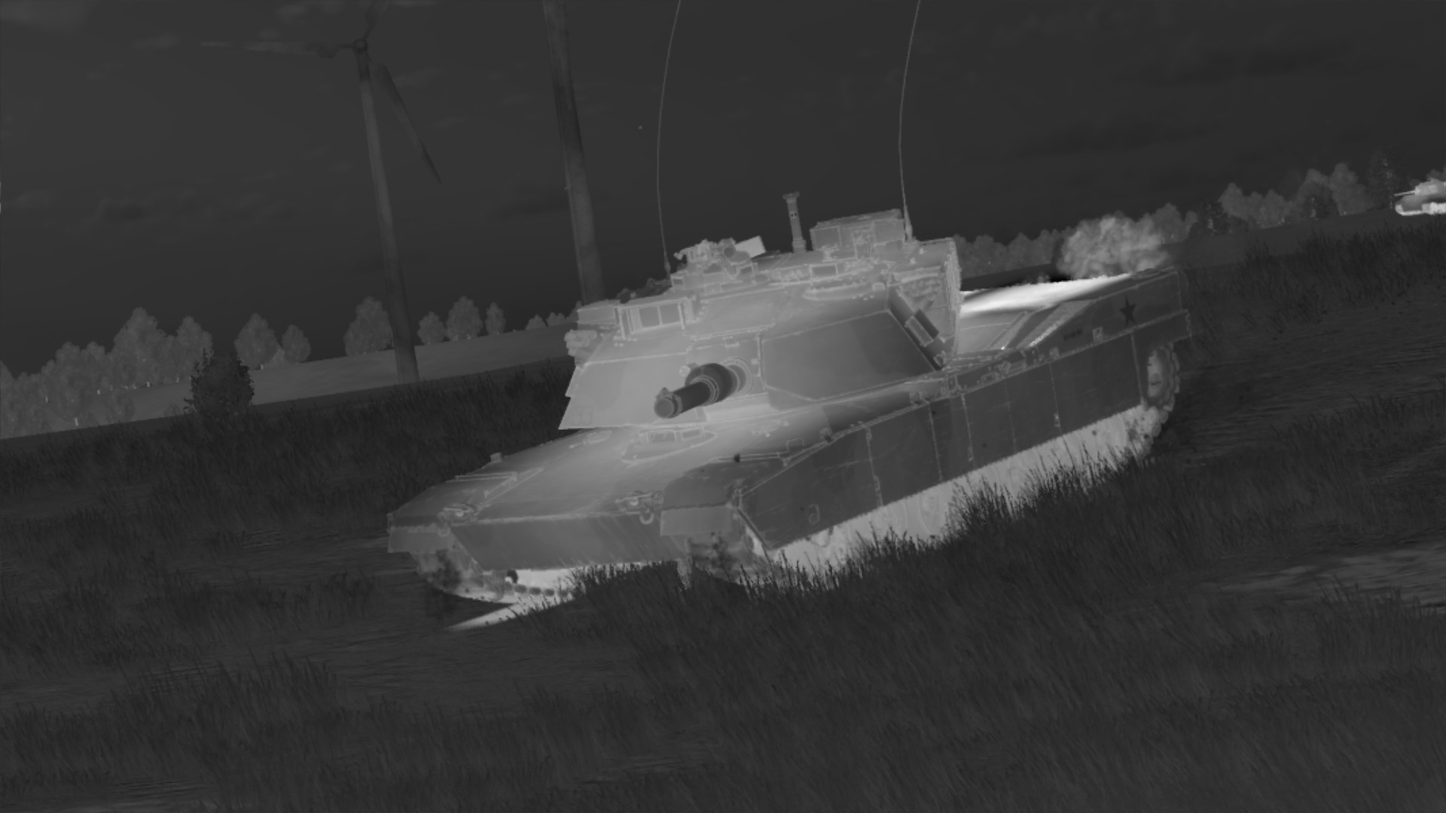abrams: (385, 191, 1194, 606)
